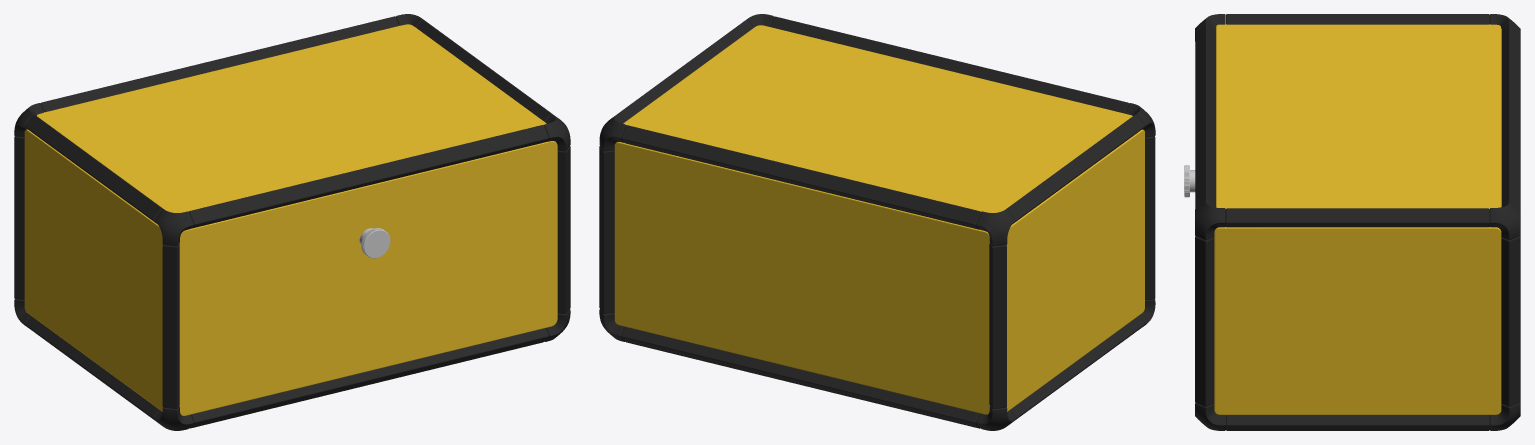
The picture shows the model from 3 angles, left to right: view 1: azimuth 30°, elevation 25°; view 2: azimuth 150°, elevation 25°; view 3: azimuth 270°, elevation 25°; orthographic projection. The views are drawn at different scales.
Parts seen in each view (by area): view 1: 523x329x229; view 2: 523x329x229; view 3: 523x329x229.
Boxes of the visible parts, left/top/right/bottom form: 523x329x229: left=14, top=14, right=570, bottom=430; 523x329x229: left=599, top=14, right=1155, bottom=430; 523x329x229: left=1184, top=14, right=1520, bottom=430.
Size of the model in its own units: 0.6007 by 0.3066 by 0.4196.
